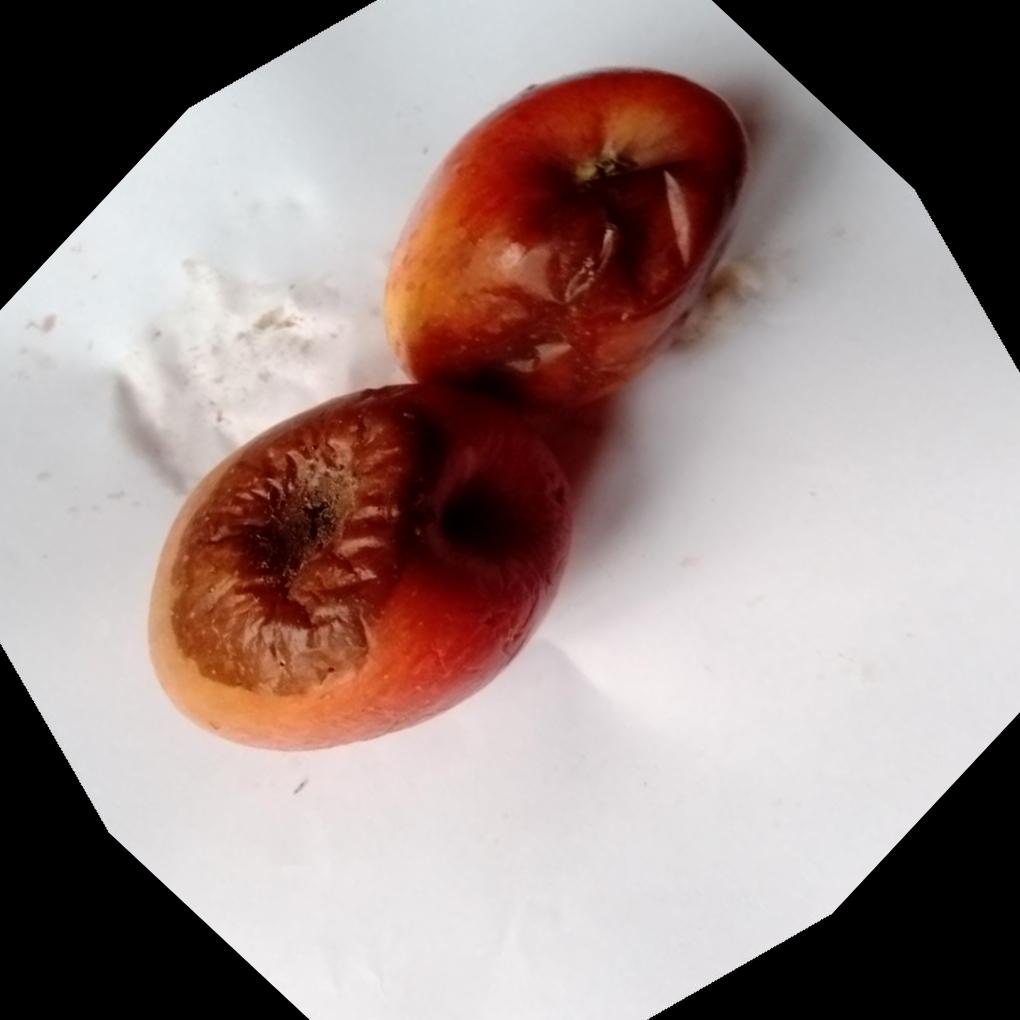FreshOrange: (144, 66, 747, 755)
